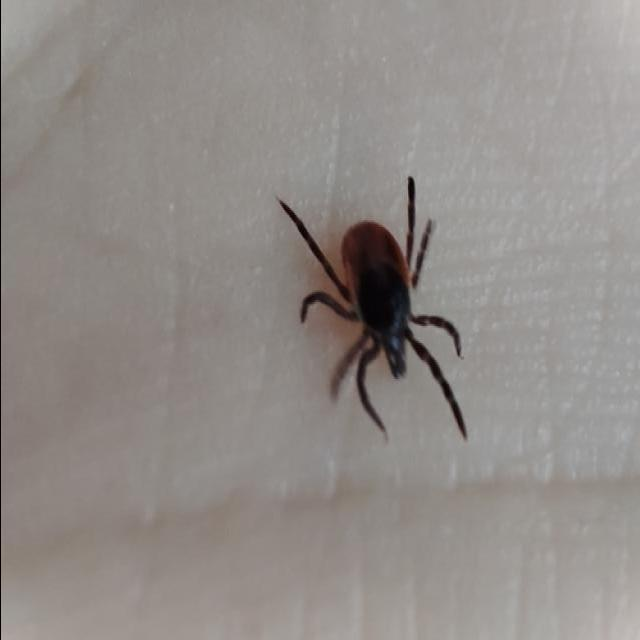Ixodes Ricinus-F: (276, 179, 466, 440)
